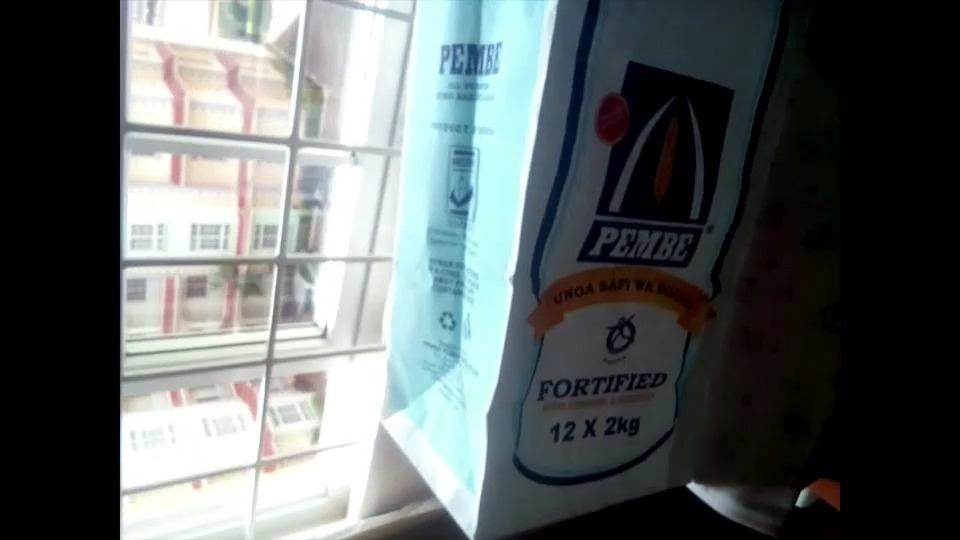wheat_flour_blue_label: (361, 7, 786, 536)
